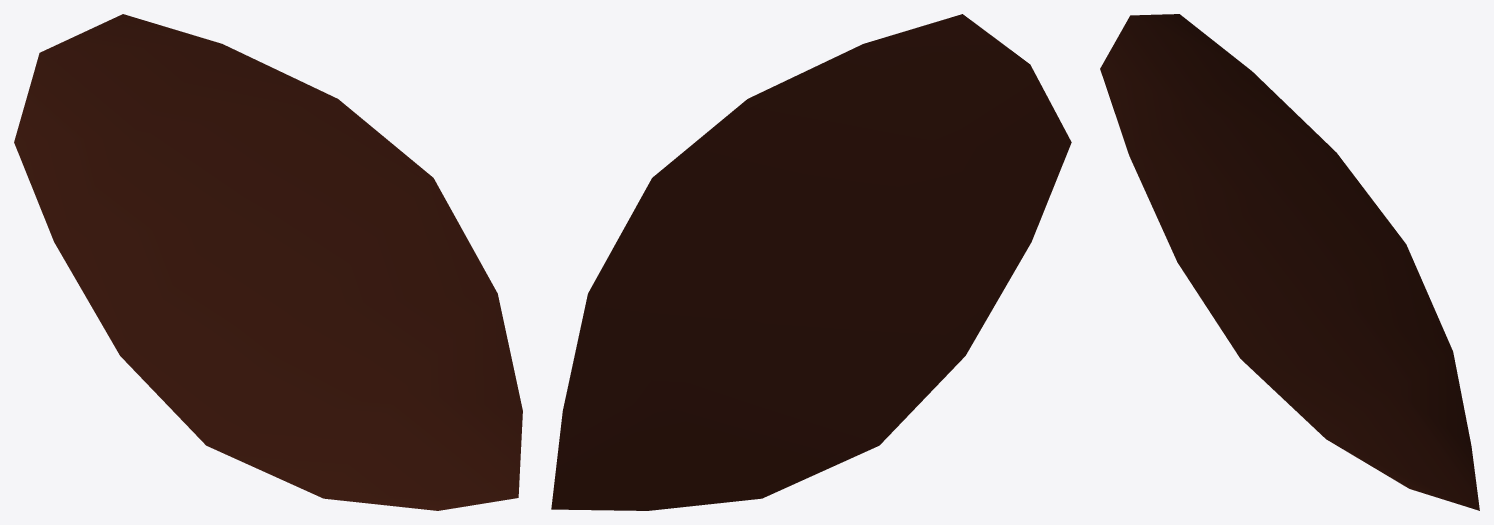
Rendered from hen_feather_flight_tertiary_058.obj.
The picture shows the model from 3 angles, left to right: view 1: azimuth 30°, elevation 25°; view 2: azimuth 150°, elevation 25°; view 3: azimuth 330°, elevation 25°; orthographic projection. The views are drawn at different scales.
Visible parts, largest first — view 1: feather_flight_tertiary_058; view 2: feather_flight_tertiary_058; view 3: feather_flight_tertiary_058.
Boxes of the visible parts, x1=… form: feather_flight_tertiary_058: x1=14, y1=14, x2=522, y2=510; feather_flight_tertiary_058: x1=551, y1=14, x2=1071, y2=510; feather_flight_tertiary_058: x1=1100, y1=14, x2=1479, y2=510.
Size of the model in its own units: 0.0196 by 0.0215 by 0.000524.
